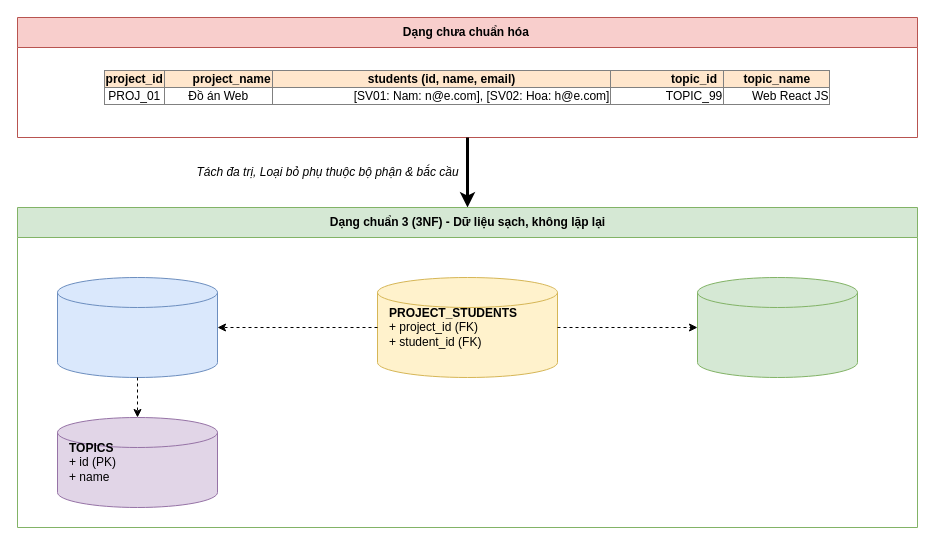
The diagram is 935 pixels wide and 545 high, and some of its shapes have lost their labels. Here are the shapes that lost their labels. From the top down, the centre of each, then its label:
At pixel 137 327: "PROJECTS + id (PK) + name + topic_id (FK)".
At pixel 777 327: "USERS (Sinh viên) + id (PK) + name + email".
